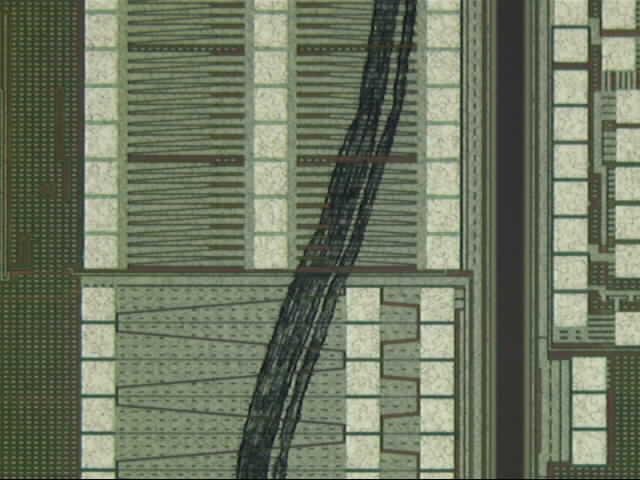SCRATCH: (229, 1, 421, 480)
